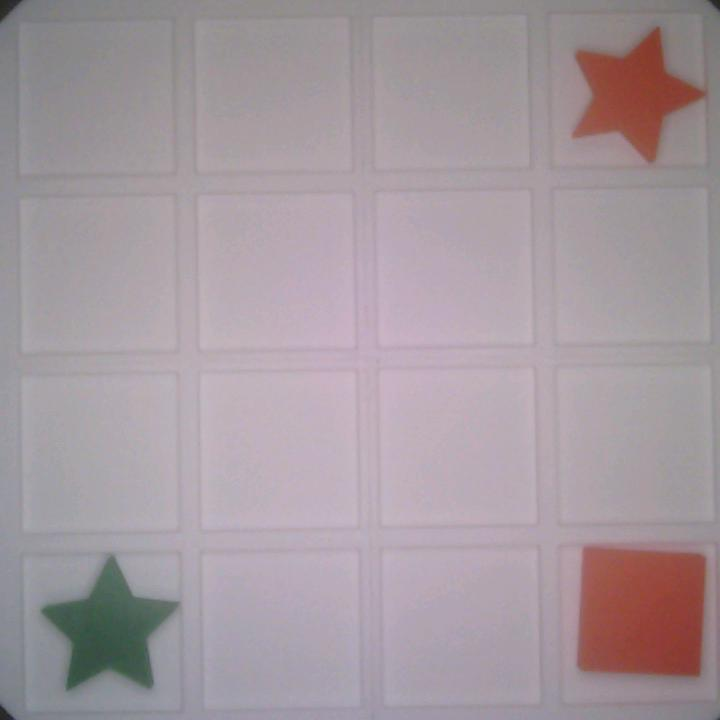Green star: (37, 550, 182, 693)
Orange square: (569, 542, 706, 681)
Orange star: (563, 26, 705, 164)
